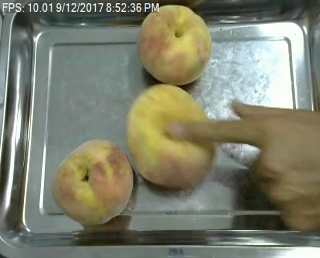Peach: (127, 83, 214, 189), (52, 138, 134, 226), (138, 3, 211, 84)
